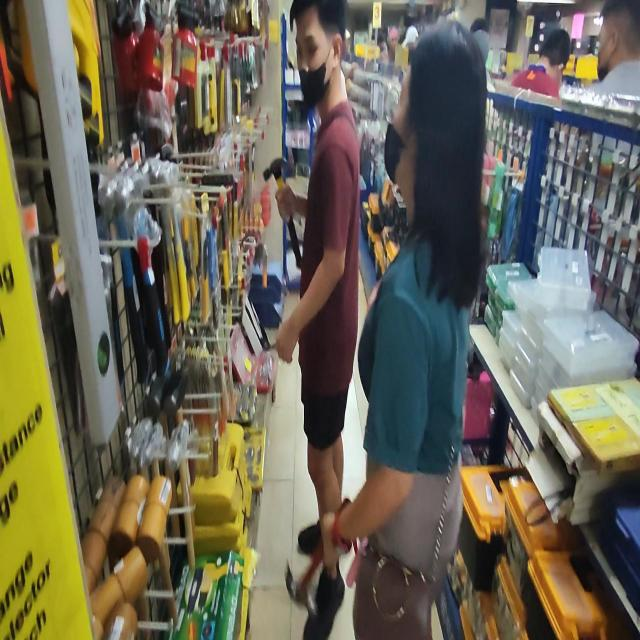hammer: (262, 157, 302, 270)
